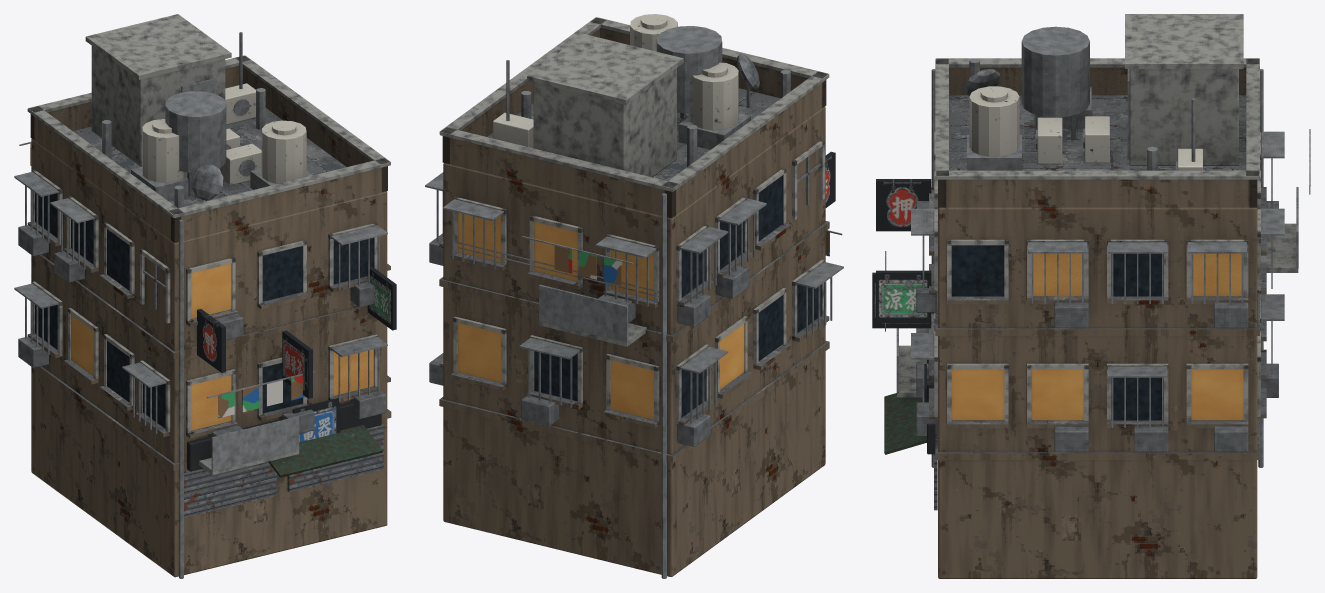
File: city_row_mid_lower.glb
3 views of the same model, side by side, from view 1: azimuth 30°, elevation 25°; view 2: azimuth 150°, elevation 25°; view 3: azimuth 270°, elevation 25° (orthographic). The views are drawn at different scales.
Visible parts, largest first — view 1: city_row_mid_lower; view 2: city_row_mid_lower; view 3: city_row_mid_lower.
Boxes of the visible parts, <box> form: city_row_mid_lower: <box>14,14,396,578</box>; city_row_mid_lower: <box>425,14,843,578</box>; city_row_mid_lower: <box>872,14,1310,578</box>.
Size of the model in its own units: 7.19 by 11.52 by 9.6.
18 materials, 18 textured.
